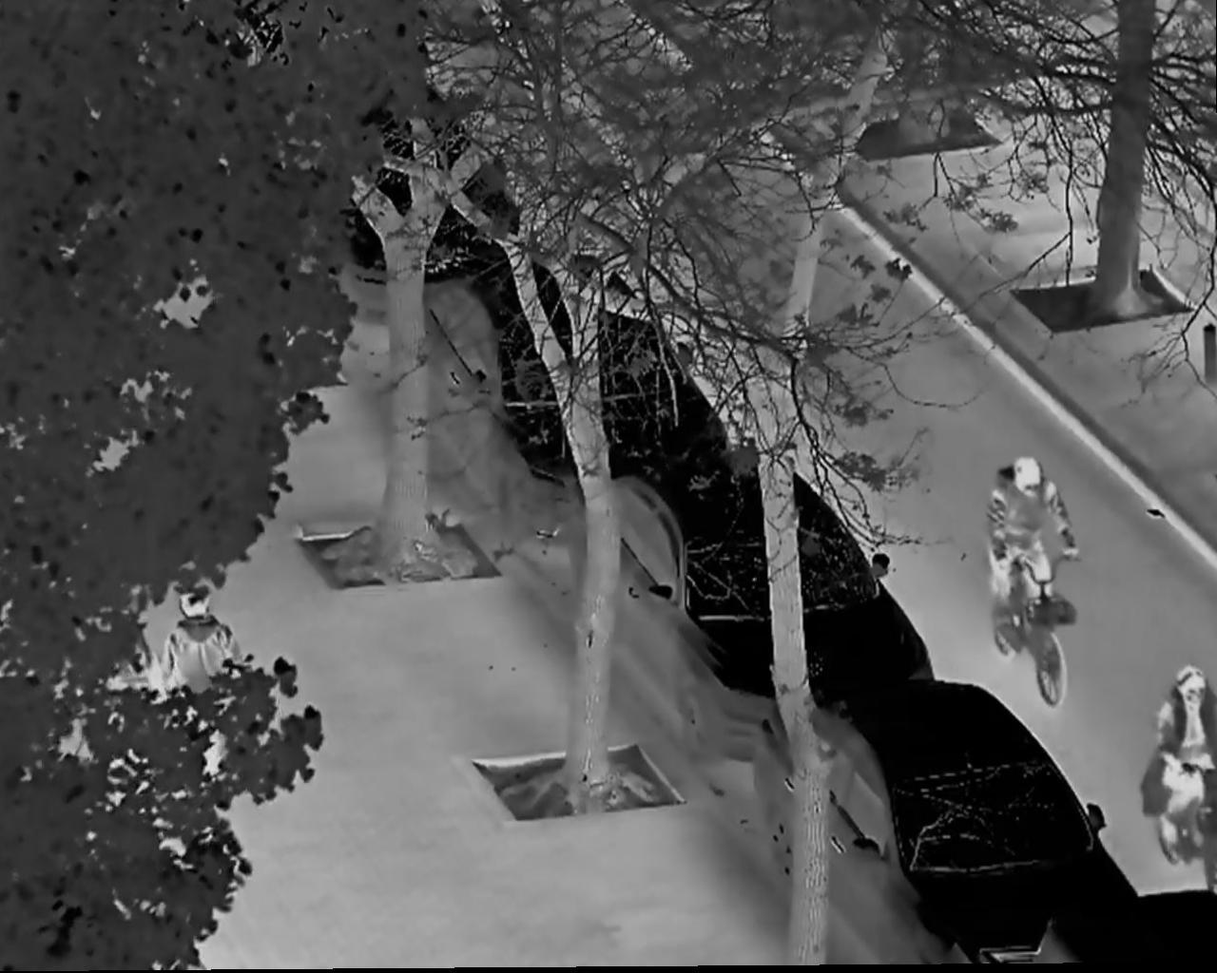person: (982, 454, 1079, 649), (165, 590, 247, 794), (1152, 663, 1217, 850)
